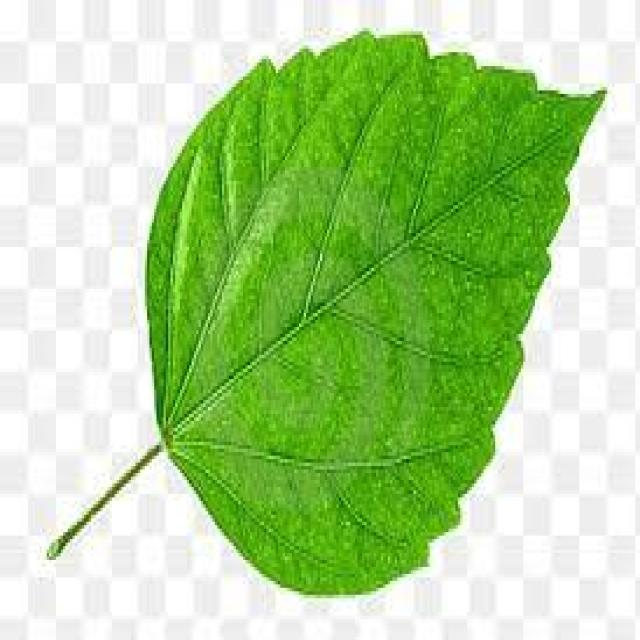yaprak: (53, 26, 624, 620)
